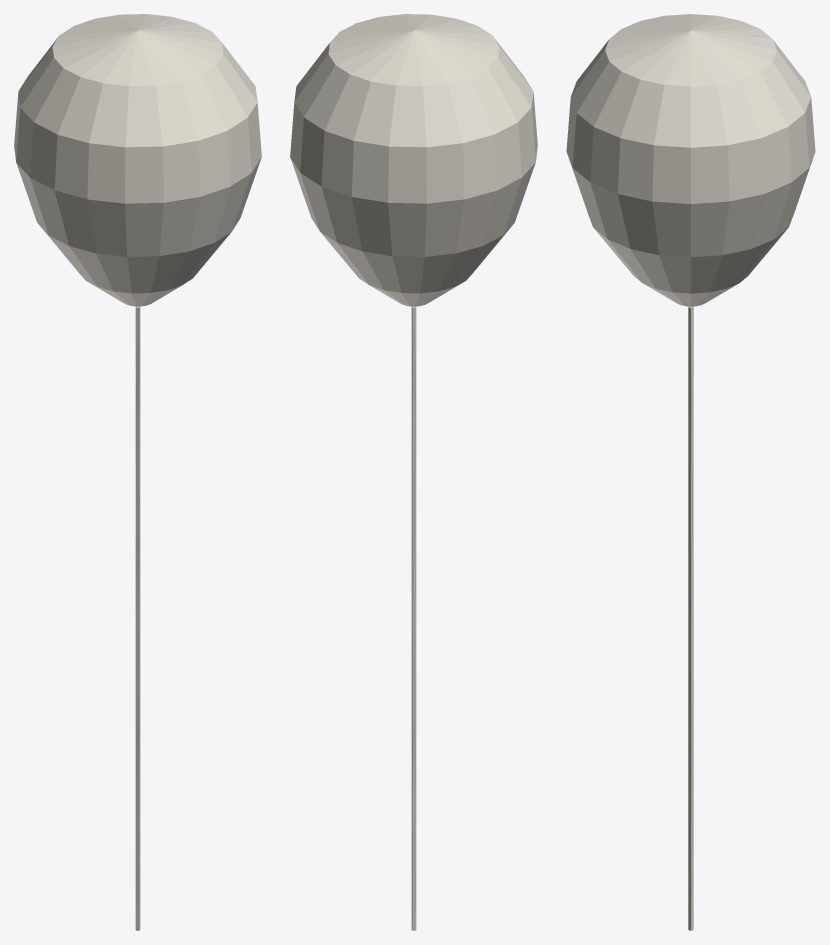
File: globo.obj
3 views of the same model, side by side, from view 1: azimuth 30°, elevation 25°; view 2: azimuth 150°, elevation 25°; view 3: azimuth 270°, elevation 25° (orthographic).
Visible parts, largest first — view 1: globo; view 2: globo; view 3: globo.
Part boxes in pixels (x1,y1,x2,y2): globo: [14, 14, 261, 930]; globo: [290, 14, 537, 930]; globo: [566, 14, 815, 930].
Size of the model in its own units: 0.29 by 1.15 by 0.29.
